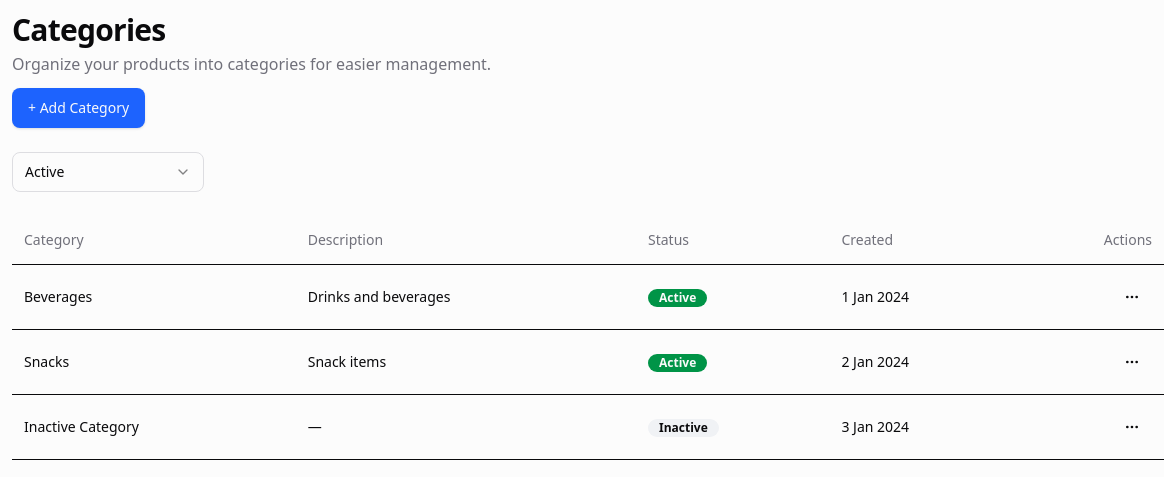
Test case: CategoriesPage › Edit option appears in row actions menu
The image size is (1164, 477).
Expected: the text "Beverages" is shown, [24, 286, 92, 306]
Click the button named "actions for": click(1132, 296) [1112, 276, 1152, 316]
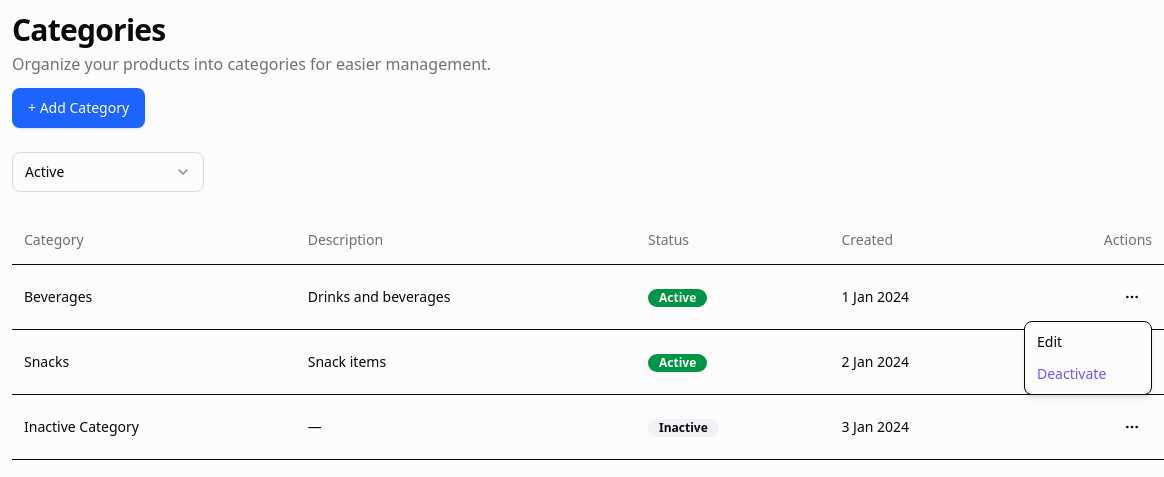
Expected: the menu item "Edit" is shown, [1029, 326, 1147, 358]
